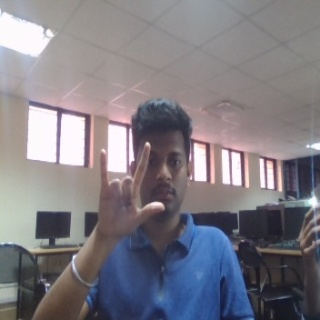I Love You: (93, 140, 167, 240)
